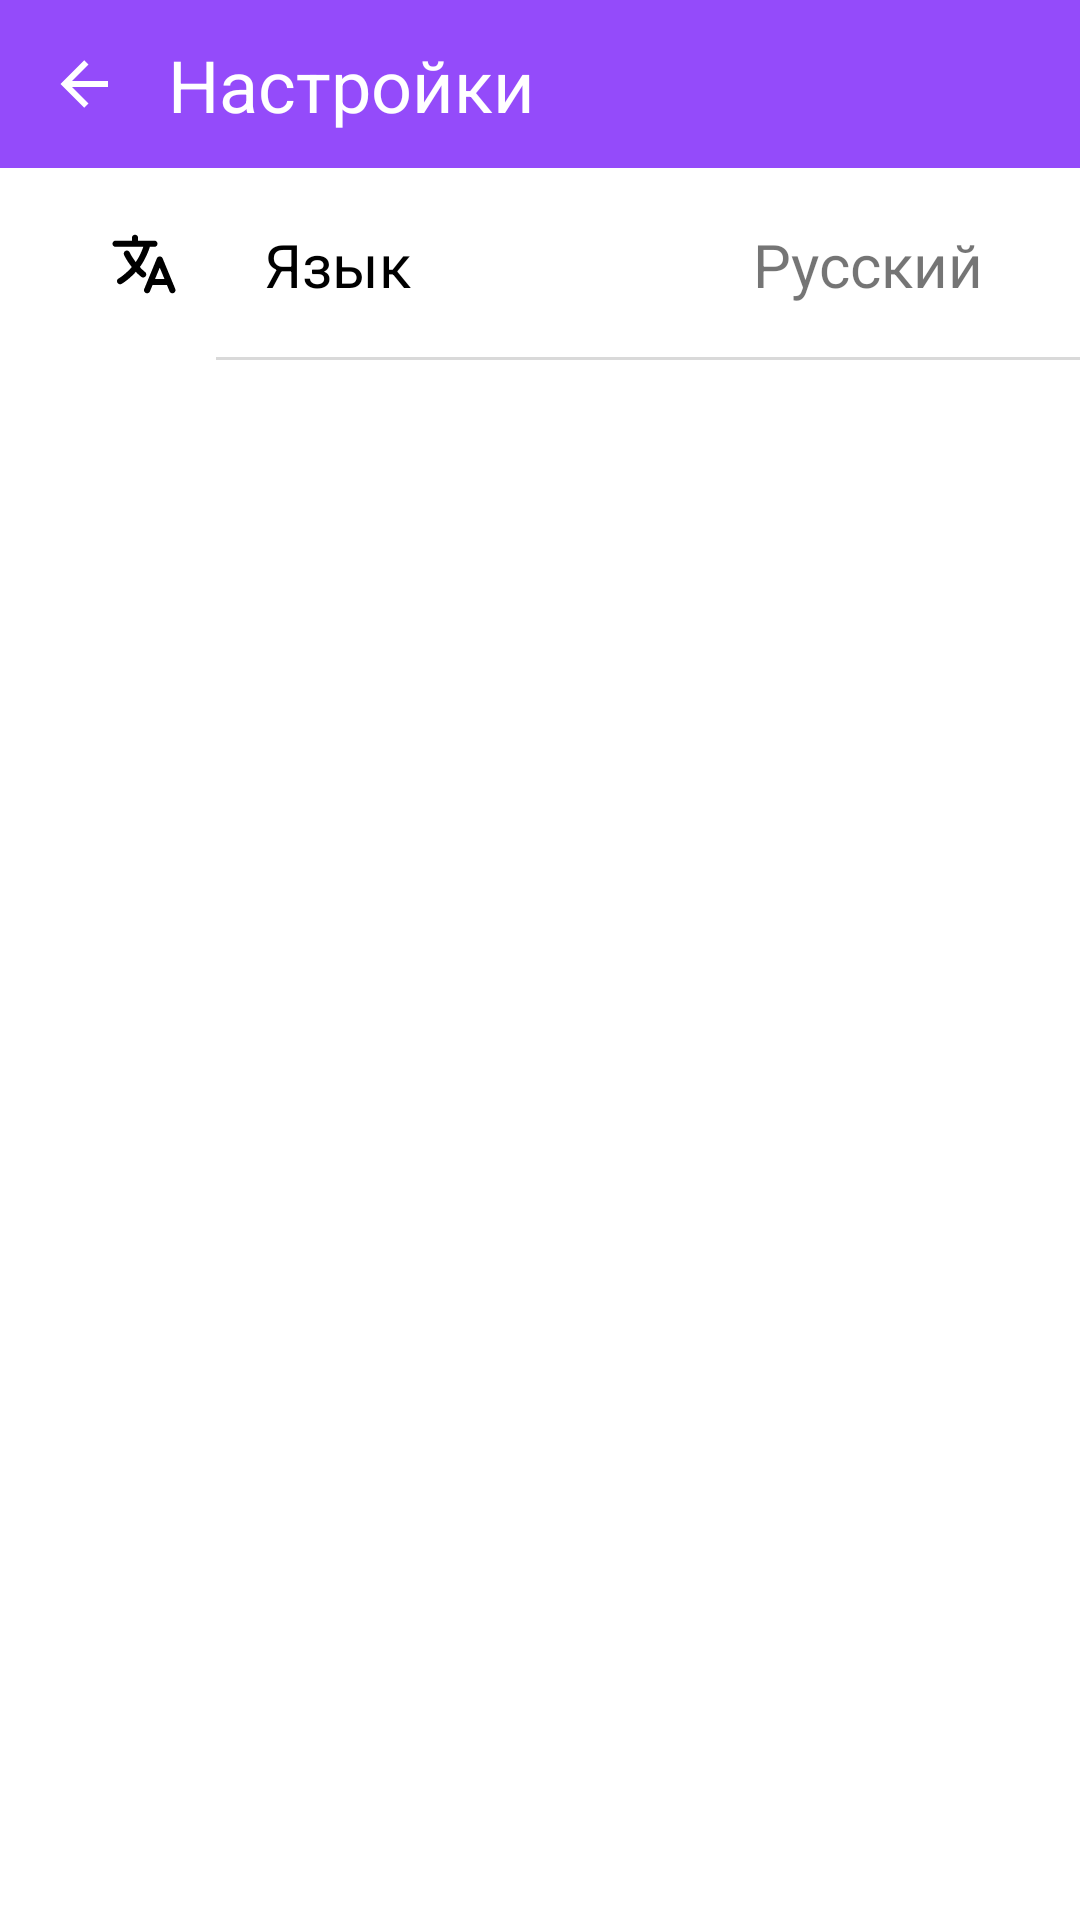

Icons on this 1080 × 1920 Android screen, each with its box as (x1, y1, x2, y2):
back: (61, 60, 108, 108)
language: (112, 234, 176, 294)
